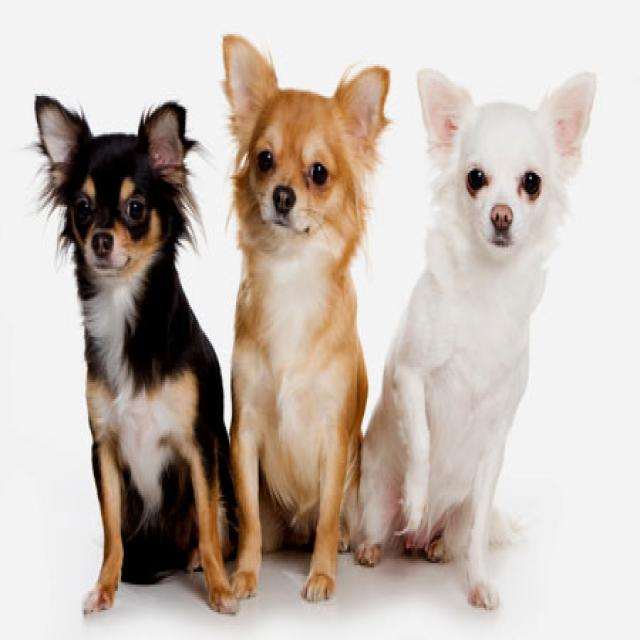chiwawa: (407, 42, 597, 339), (21, 88, 198, 400), (217, 32, 394, 318)
